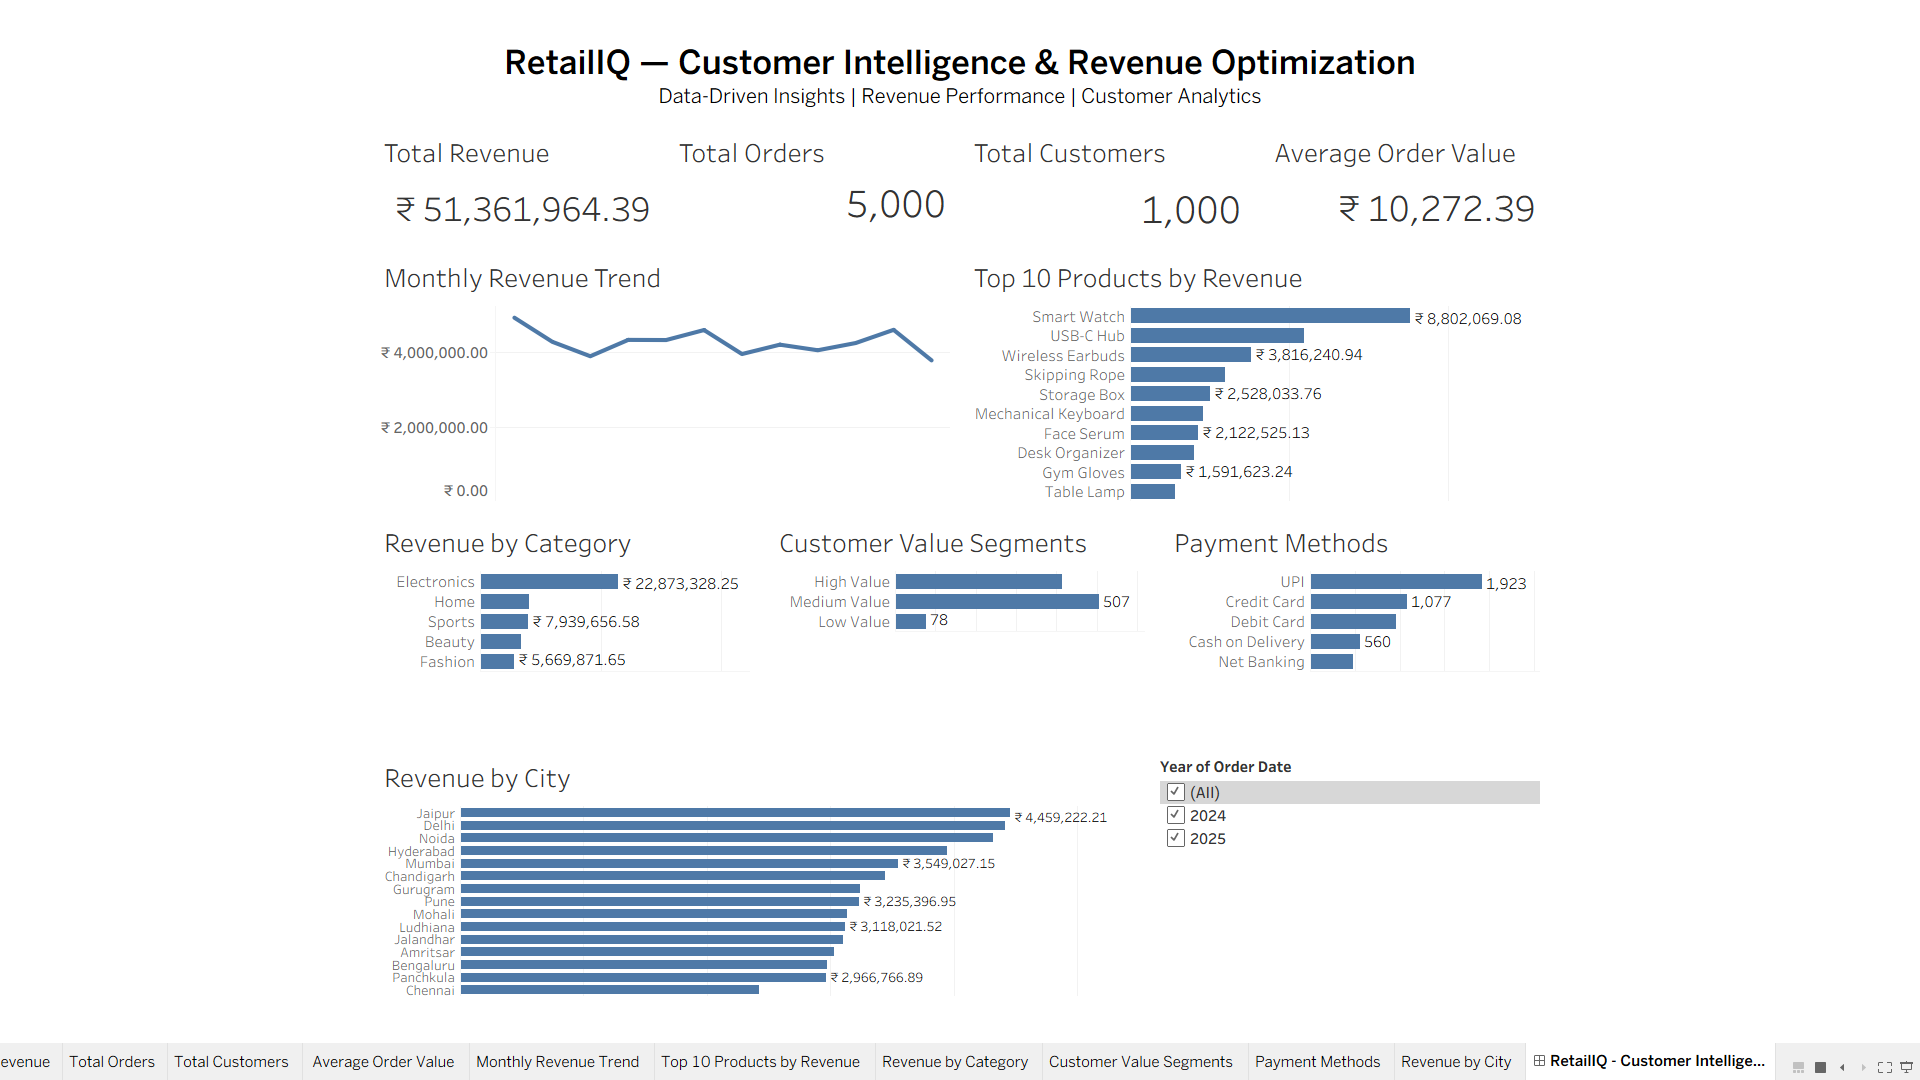

The dashboard page shown, as its layout file describes it:
{"tool":"tableau","page":{"name":"RetailIQ - Customer Intelligence Dashboard","canvas":[1200,1000],"ordinal":0},"visuals":[{"type":"text","box":[20,15,1160,80]},{"type":"worksheet","title":"Total Revenue","mark":"Automatic","box":[20,110,275,105]},{"type":"worksheet","title":"Total Orders","mark":"Automatic","box":[315,110,275,93]},{"type":"worksheet","title":"Total Customers","mark":"Automatic","box":[610,110,275,105]},{"type":"worksheet","title":" Average Order Value","mark":"Automatic","box":[905,110,275,105]},{"type":"worksheet","title":"Monthly Revenue Trend","mark":"Automatic","rows":["Calculation_0006636149575680"],"cols":["order_date"],"box":[20,235,570,245]},{"type":"worksheet","title":"Top 10 Products by Revenue","mark":"Automatic","rows":["product_name"],"cols":["Calculation_0006636149575680"],"box":[610,235,570,245]},{"type":"worksheet","title":"Revenue by Category","mark":"Automatic","rows":["category"],"cols":["Calculation_0006636149575680"],"box":[20,500,370,210]},{"type":"worksheet","title":"Customer Value Segments","mark":"Automatic","rows":["Calculation_0006636158005252"],"cols":["customer_id"],"box":[415,500,370,210]},{"type":"worksheet","title":"Payment Methods","mark":"Automatic","rows":["payment_method"],"cols":["order_id"],"box":[810,500,370,210]},{"type":"worksheet","title":"Revenue by City","mark":"Automatic","rows":["city"],"cols":["Calculation_0006636149575680"],"box":[20,735,760,240]},{"type":"filter","title":"Monthly Revenue Trend","param":"[federated.1gp9acq0l1h52i1eds9ej1u888r5].[yr:order_date:ok]","box":[800,735,380,100]}]}

Visuals, with their boxes on the page's 1200x1000 design canvas (x1, y1, x2, y2). These are canvas units, not pixel positions in the 1920x1080 screenshot, which may show the page scaled, cropped or inside an application window:
text: detection(20, 15, 1180, 95)
"Total Revenue" worksheet: detection(20, 110, 295, 215)
"Total Orders" worksheet: detection(315, 110, 590, 203)
"Total Customers" worksheet: detection(610, 110, 885, 215)
" Average Order Value" worksheet: detection(905, 110, 1180, 215)
"Monthly Revenue Trend" worksheet: detection(20, 235, 590, 480)
"Top 10 Products by Revenue" worksheet: detection(610, 235, 1180, 480)
"Revenue by Category" worksheet: detection(20, 500, 390, 710)
"Customer Value Segments" worksheet: detection(415, 500, 785, 710)
"Payment Methods" worksheet: detection(810, 500, 1180, 710)
"Revenue by City" worksheet: detection(20, 735, 780, 975)
"Monthly Revenue Trend" filter: detection(800, 735, 1180, 835)
